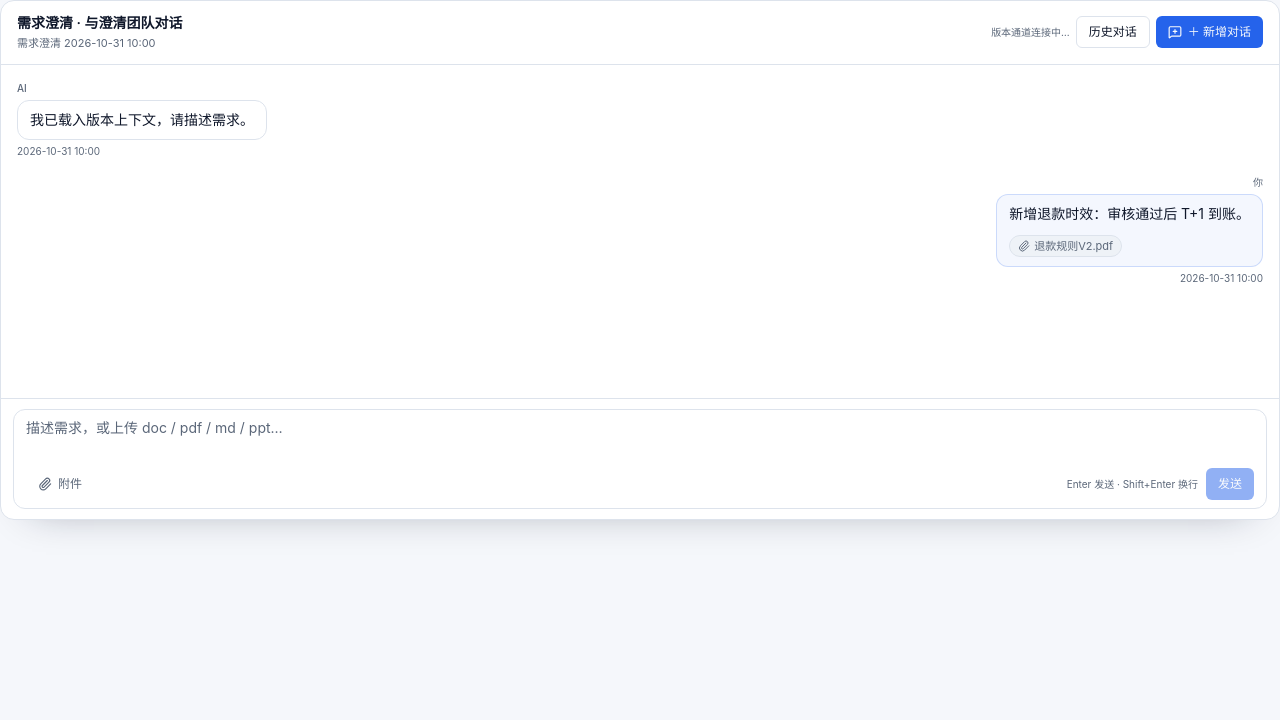
Test case: ChatPanel › switches conversations through the history dropdown
Expected: the text "我已载入版本上下文，请描述需求。" is shown, 30,108 -> 254,131
What coordinates should you click on to do the following:
click the button "历史对话"
I would click on:
 (1113, 32)
Its box is 1076,16 -> 1150,48.
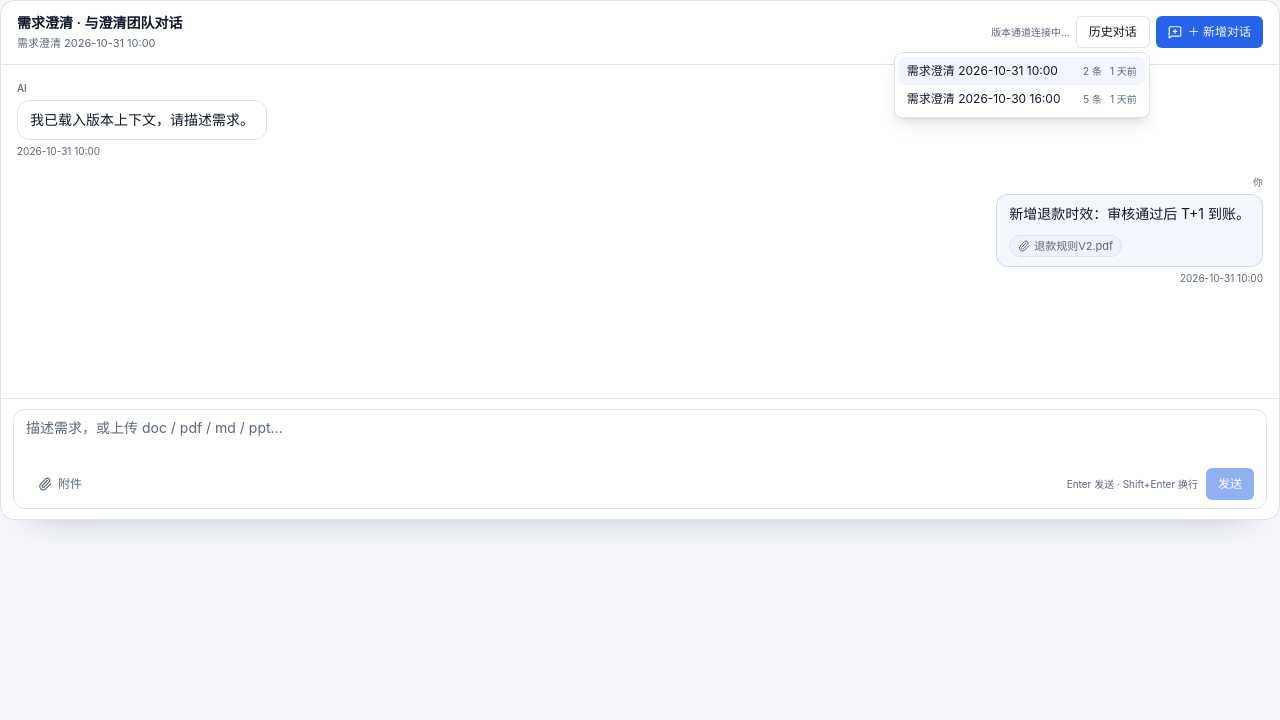
Now the element with test id "conversation-history-list" shows "需求澄清 2026-10-30 16:00"
What coordinates should you click on to do the following:
click the button "需求澄清 2026-10-30 16:00 5 条 1 天前"
I would click on:
 (1022, 99)
Its box is 899,85 -> 1145,113.
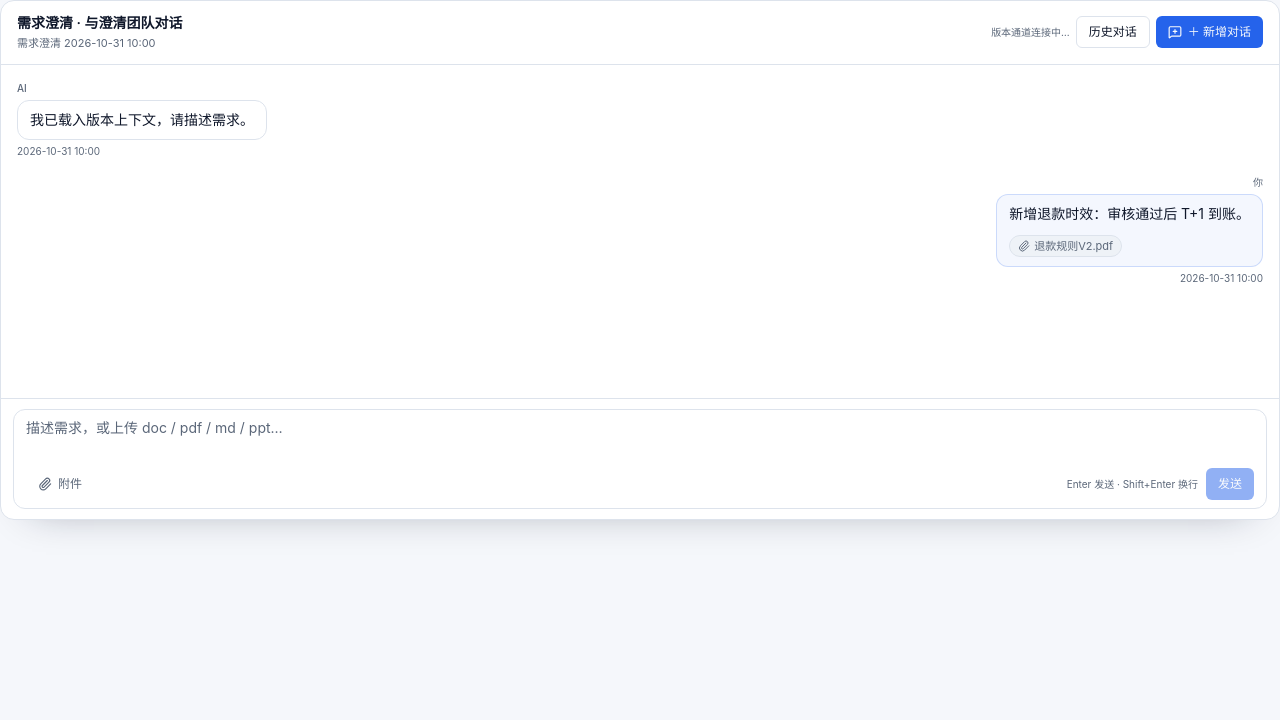
Now the element with test id "conversation-history-list" is gone
